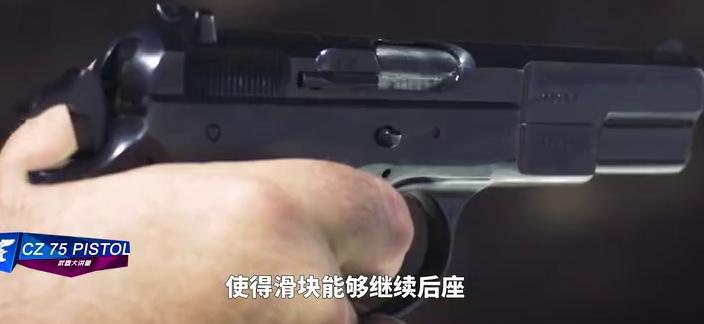gun: (1, 1, 704, 324)
